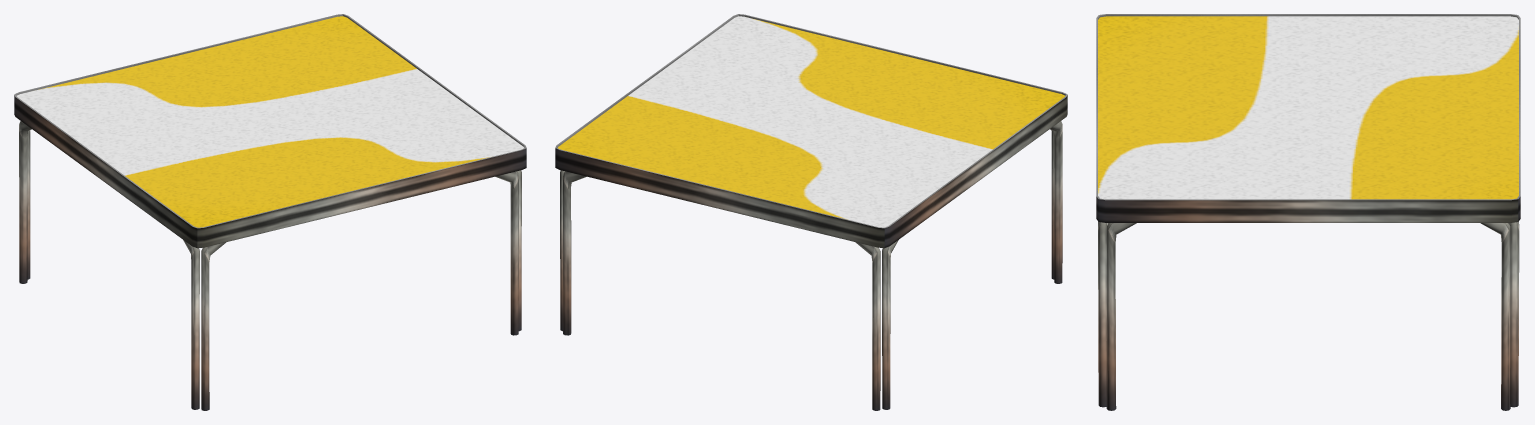
File: Dining_Table_02.FBX
3 views of the same model, side by side, from view 1: azimuth 30°, elevation 25°; view 2: azimuth 150°, elevation 25°; view 3: azimuth 270°, elevation 25° (orthographic). The views are drawn at different scales.
Visible parts, largest first — view 1: Dining_Table; view 2: Dining_Table; view 3: Dining_Table.
Boxes of the visible parts, left/top/right/bottom form: Dining_Table: left=14, top=14, right=526, bottom=410; Dining_Table: left=555, top=14, right=1067, bottom=410; Dining_Table: left=1096, top=14, right=1520, bottom=410.
Bounding box in the file's own units: 264 × 140 × 254.
